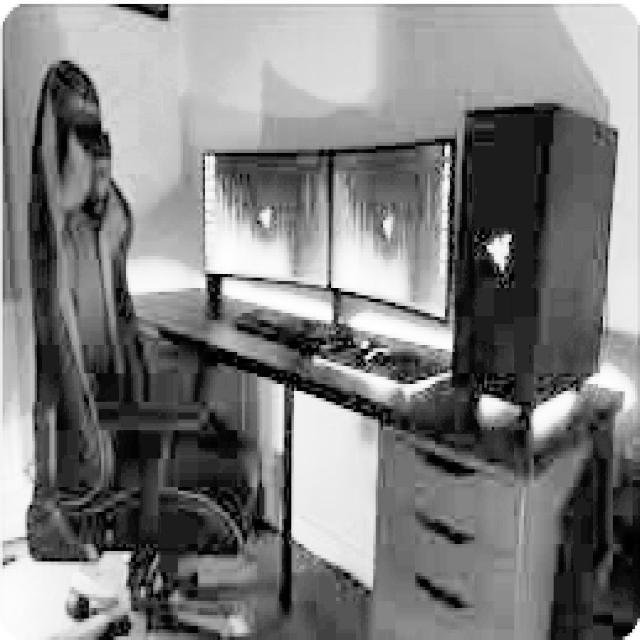table: (129, 284, 625, 636)
